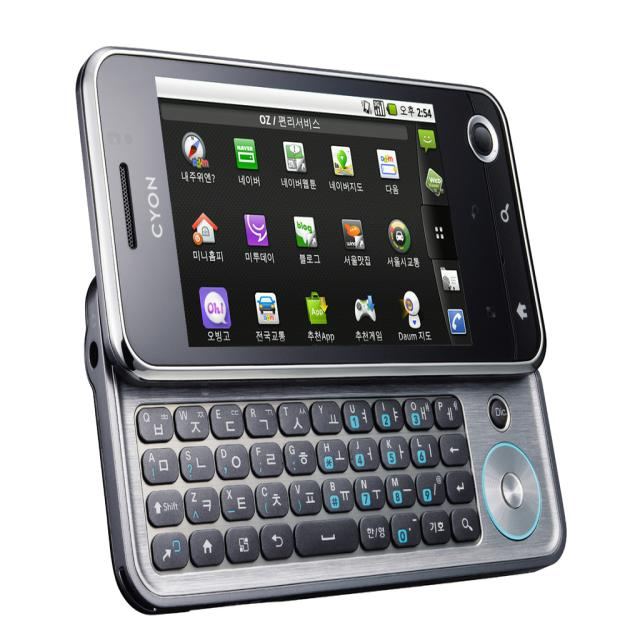Mobile-phone: (63, 72, 578, 624)
